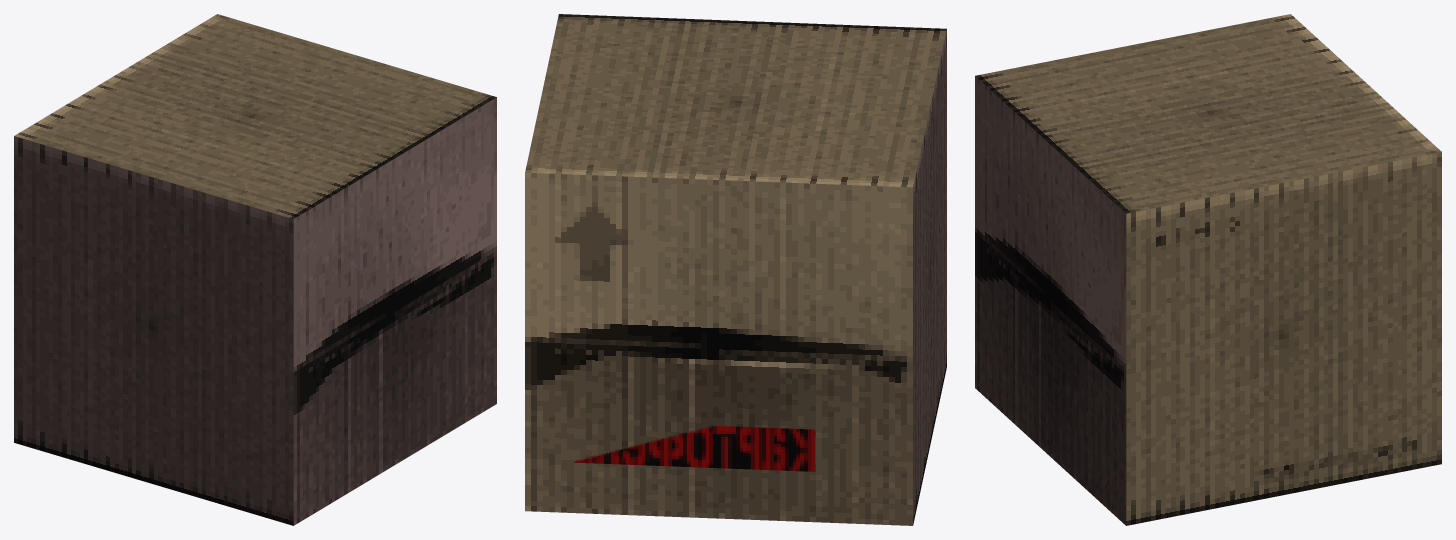
The model's file is primary_074.glb.
3 views of the same model, side by side, from view 1: azimuth 30°, elevation 25°; view 2: azimuth 150°, elevation 25°; view 3: azimuth 270°, elevation 25° (orthographic). The views are drawn at different scales.
Visible parts, largest first — view 1: Object; view 2: Object; view 3: Object.
Part boxes in pixels (<box>): Object: <box>14,14,496,525</box>; Object: <box>525,14,946,525</box>; Object: <box>975,14,1441,525</box>.
Size of the model in its own units: 1.47 by 1.07 by 1.45.
Materials: 7 (7 with a texture image).
